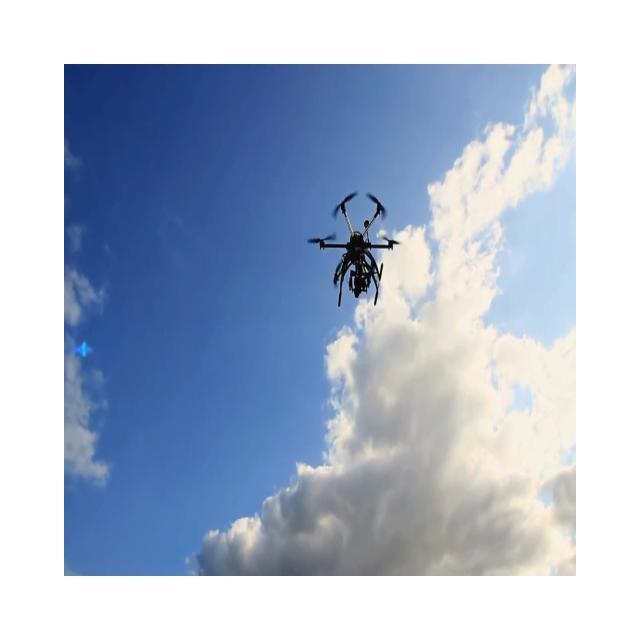drone: (307, 191, 400, 307)
